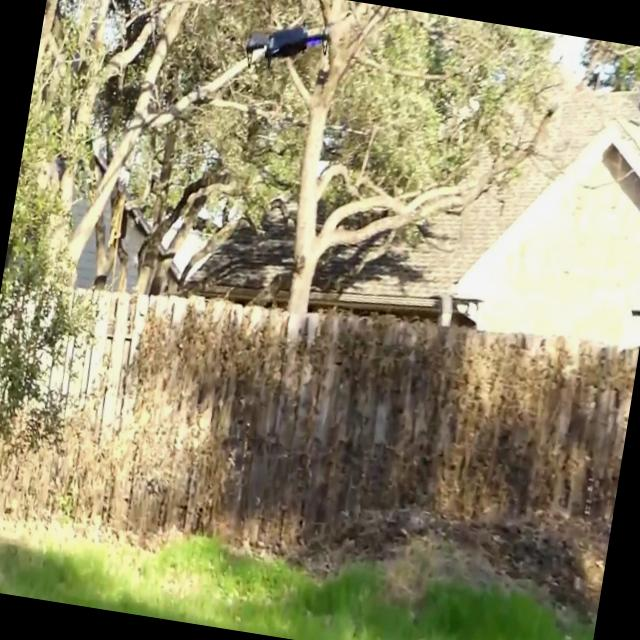drone: (244, 15, 332, 79)
